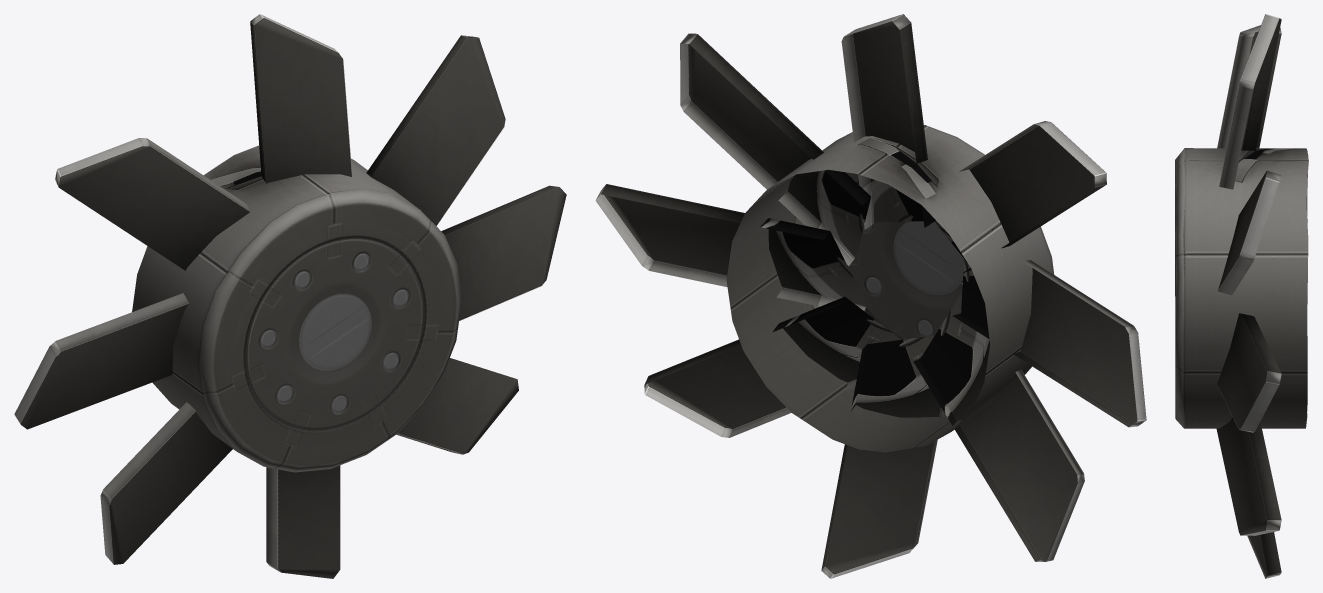
File: Fan.fbx
The picture shows the model from 3 angles, left to right: view 1: azimuth 30°, elevation 25°; view 2: azimuth 150°, elevation 25°; view 3: azimuth 270°, elevation 25°; orthographic projection. The views are drawn at different scales.
Parts seen in each view (by area): view 1: polySurface6, polySurface1; view 2: polySurface6, polySurface1; view 3: polySurface1, polySurface6.
Part boxes in pixels (bbox=[...]): polySurface6: bbox=[14, 14, 566, 578]; polySurface1: bbox=[132, 145, 461, 472]; polySurface6: bbox=[595, 14, 1146, 578]; polySurface1: bbox=[726, 125, 1054, 452]; polySurface1: bbox=[1175, 148, 1308, 428]; polySurface6: bbox=[1216, 14, 1281, 578].
Bounding box in the file's own units: 114 × 115 × 26.15.
